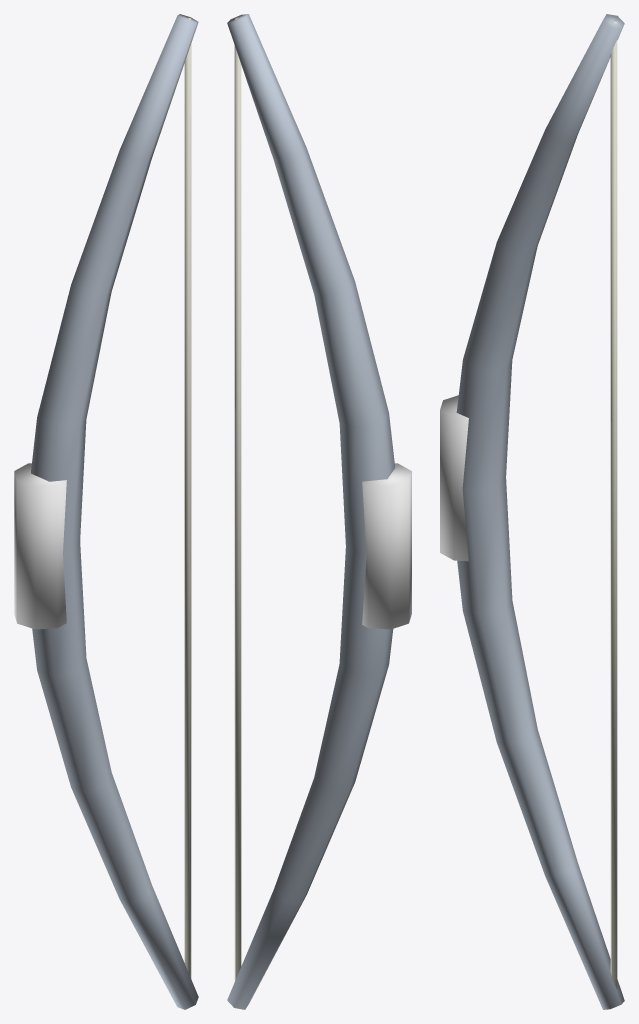
File: stellite_bow.glb
The picture shows the model from 3 angles, left to right: view 1: azimuth 30°, elevation 25°; view 2: azimuth 150°, elevation 25°; view 3: azimuth 330°, elevation 25°; orthographic projection.
Parts seen in each view (by area): view 1: stellite_bow_v0; view 2: stellite_bow_v0; view 3: stellite_bow_v0.
Part boxes in pixels (x1,y1,x2,y2): stellite_bow_v0: [14, 14, 198, 1009]; stellite_bow_v0: [227, 14, 411, 1009]; stellite_bow_v0: [440, 14, 624, 1009].
Size of the model in its own units: 0.2105 by 1.11 by 0.06.
